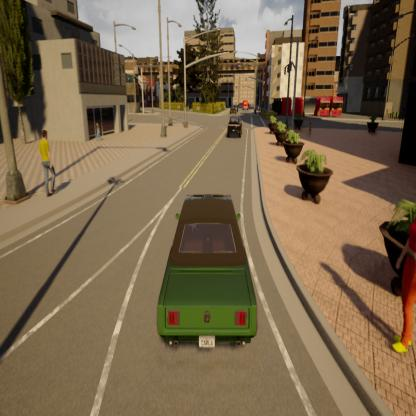Cars: (158, 194, 258, 354), (228, 113, 242, 136), (242, 98, 249, 111)
Pedestrian: (393, 210, 416, 359), (40, 127, 57, 199), (94, 120, 101, 143)
